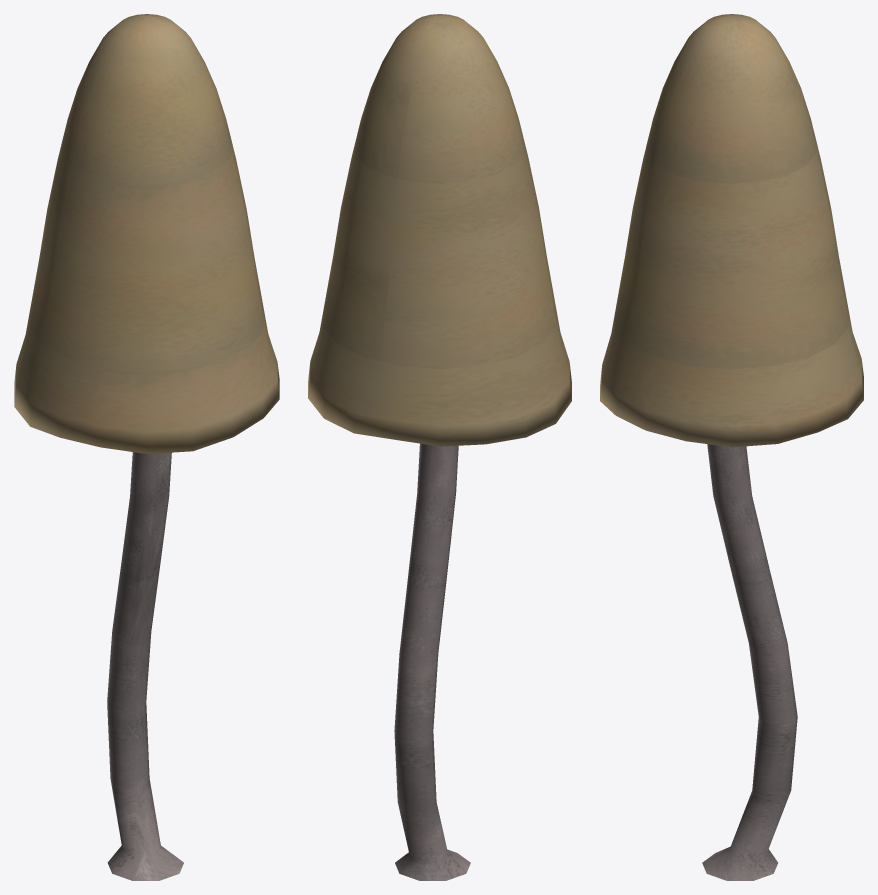
File: TallShrromTextured.FBX
The picture shows the model from 3 angles, left to right: view 1: azimuth 30°, elevation 25°; view 2: azimuth 150°, elevation 25°; view 3: azimuth 270°, elevation 25°; orthographic projection.
Visible parts, largest first — view 1: Bell; view 2: Bell; view 3: Bell.
Boxes of the visible parts, x1,y1,x2,y2 form: Bell: (14,14,279,880); Bell: (308,14,571,880); Bell: (600,14,863,880).
Size of the model in its own units: 35.92 by 125 by 35.37.
